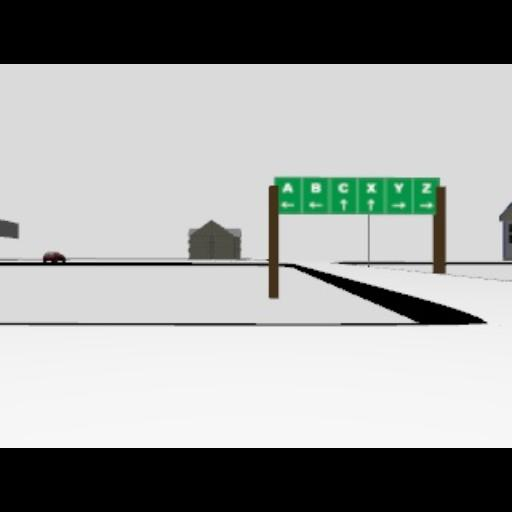A: (282, 182, 294, 194)
B: (310, 182, 322, 194)
C: (337, 182, 349, 194)
Left: (307, 200, 323, 210), (281, 200, 295, 210)
Right: (392, 200, 406, 210), (418, 201, 434, 209)
Straight: (366, 197, 376, 211), (340, 198, 348, 212)
X: (366, 182, 378, 194)
Y: (393, 182, 405, 194)
Z: (422, 182, 432, 194)
